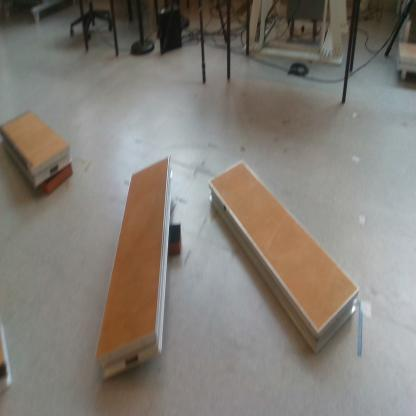Stairs: (209, 160, 361, 356), (96, 156, 174, 383), (1, 110, 74, 186), (1, 327, 13, 395)
